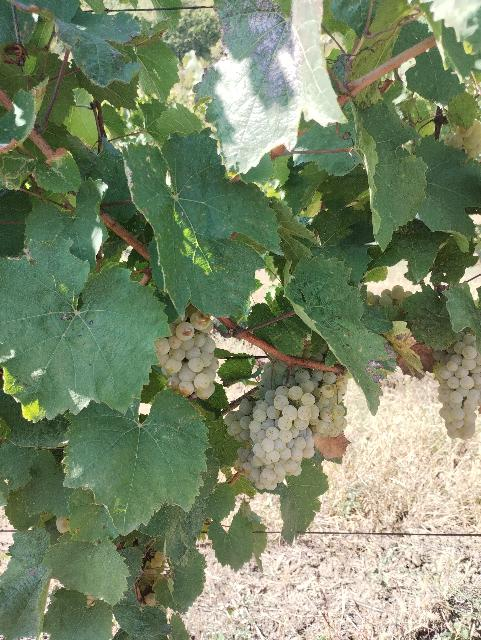grapes: (225, 369, 346, 491), (155, 310, 219, 400), (434, 334, 481, 440)
